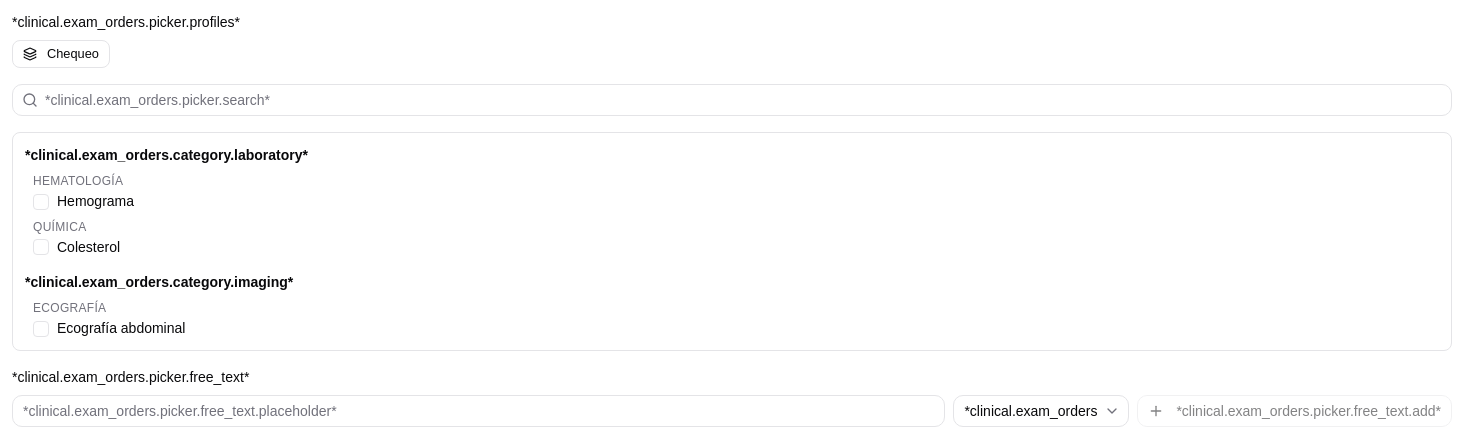
Test case: ExamPicker › filters with the search
The width and height of the screenshot is (1464, 444).
In the search field: (732, 100) [12,84,1452,116], type "ecografia"
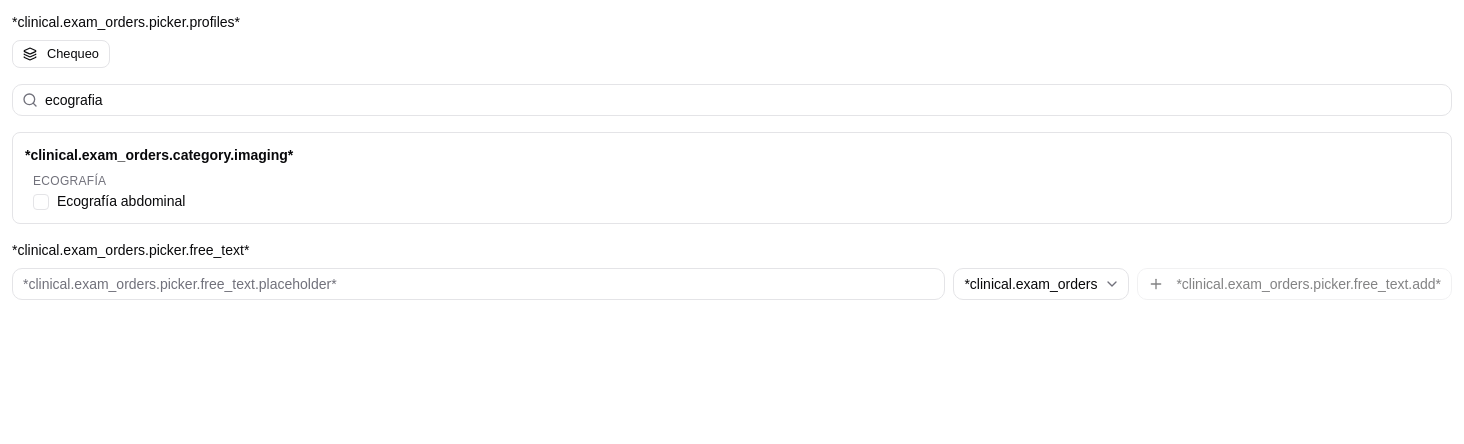
Expected: the checkbox "Ecografía abdominal" is shown, [57,193,185,210]
Now the checkbox "Hemograma" is gone
